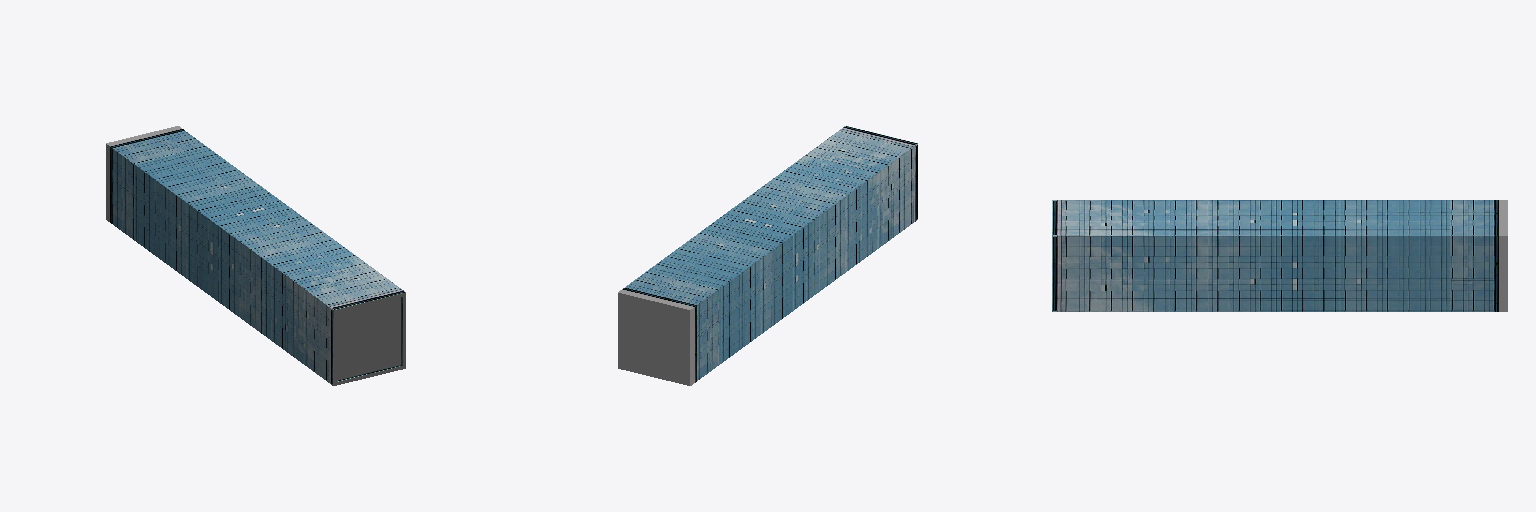
3 renders of one model, left to right at view 1: azimuth 30°, elevation 25°; view 2: azimuth 150°, elevation 25°; view 3: azimuth 270°, elevation 25°, orthographic.
Visible parts, largest first — view 1: object_2, object_4, object_3, object_5; view 2: object_2, object_5; view 3: object_2, object_5.
Part boxes in pixels (x1,y1,x2,y2): object_2: (110,129,405,385); object_4: (337,298,400,379); object_3: (334,293,405,385); object_5: (106,126,181,221); object_2: (622,126,917,382); object_5: (618,290,694,385); object_2: (1052,200,1498,311); object_5: (1499,200,1507,311).
Bounding box in the file's own units: 3.19 × 3.19 × 17.34.
Materials: 3 (1 with a texture image).